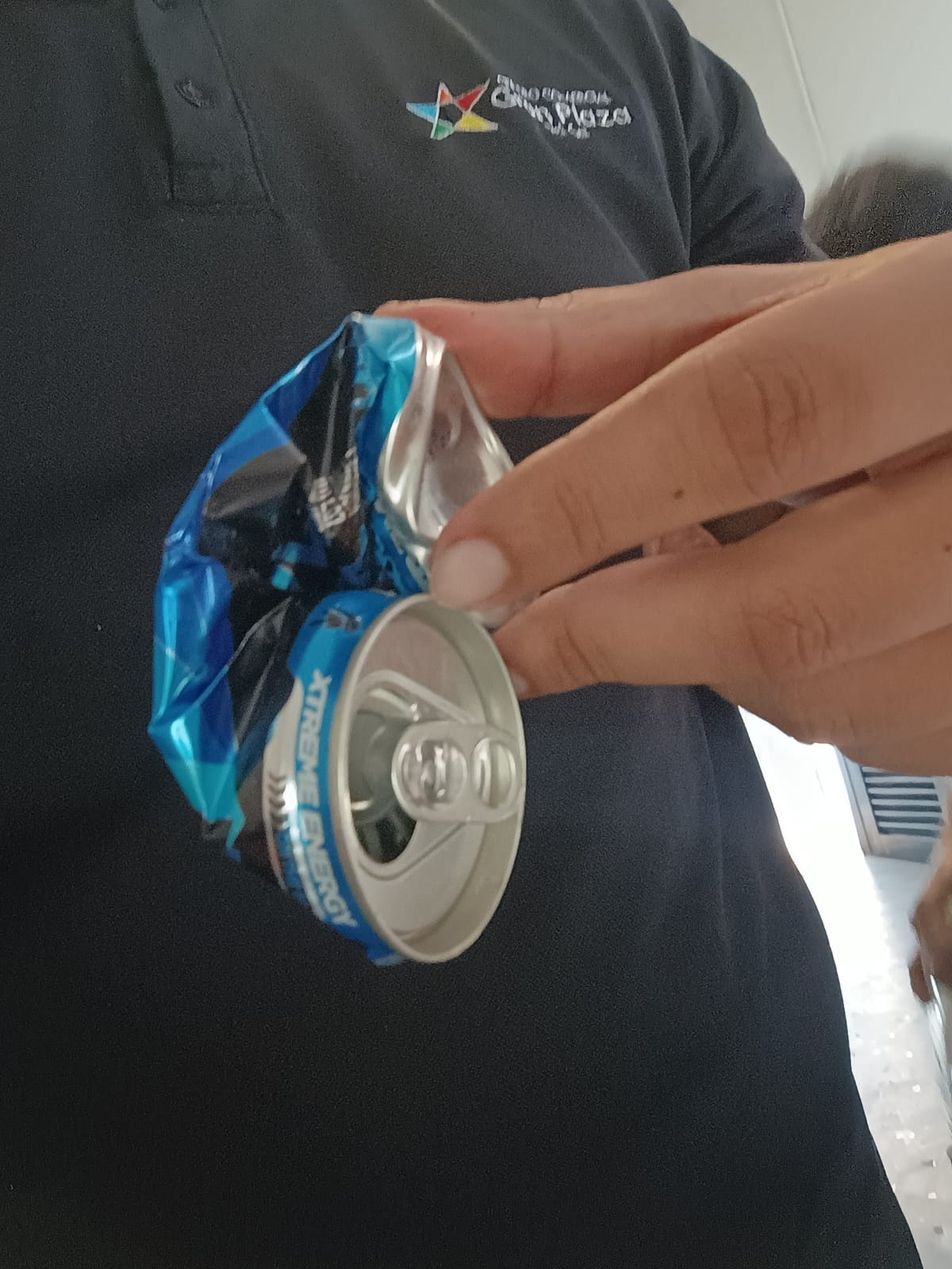Metal: (149, 313, 528, 972)
